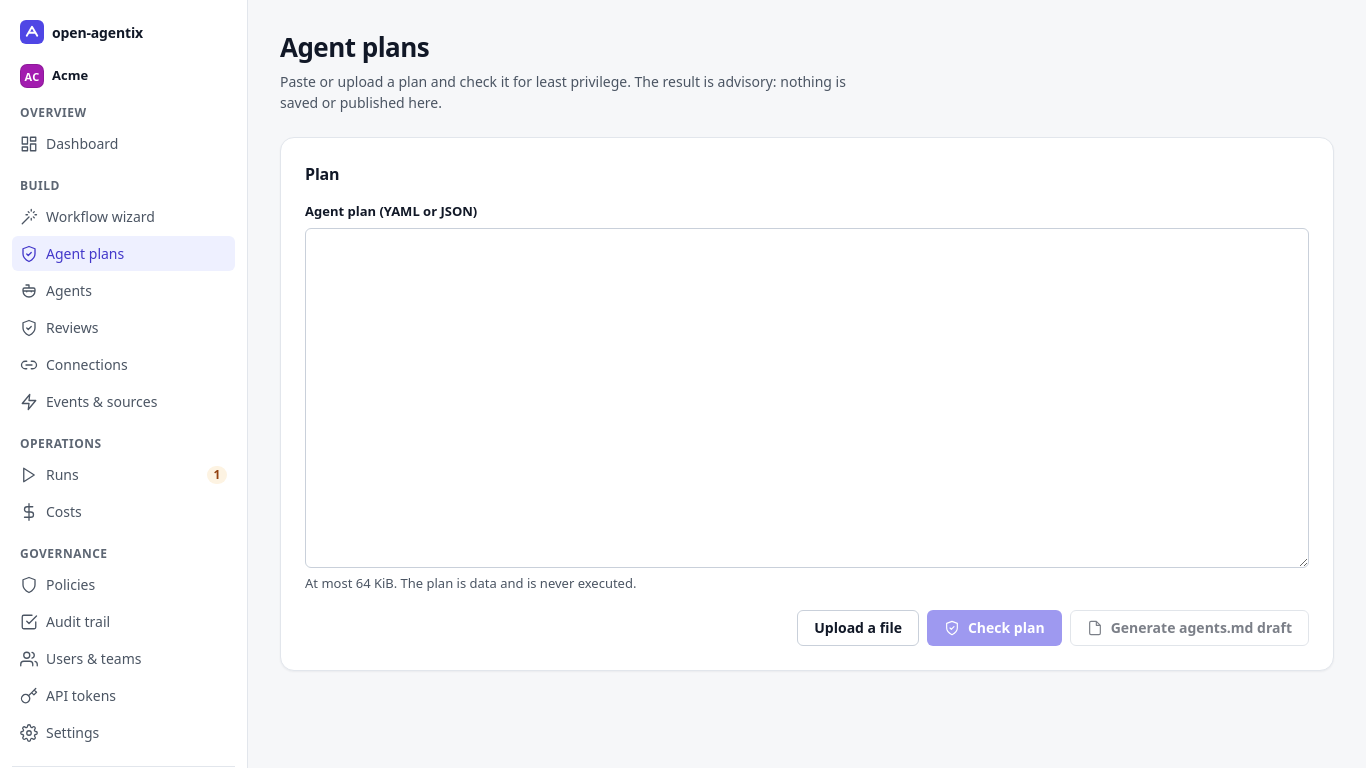
plans page › withholds the draft when the plan has errors
In the text box labelled "Agent plan (YAML or JSON)": (807, 398) x1=305 y1=228 x2=1309 y2=568, type "ERRORS"
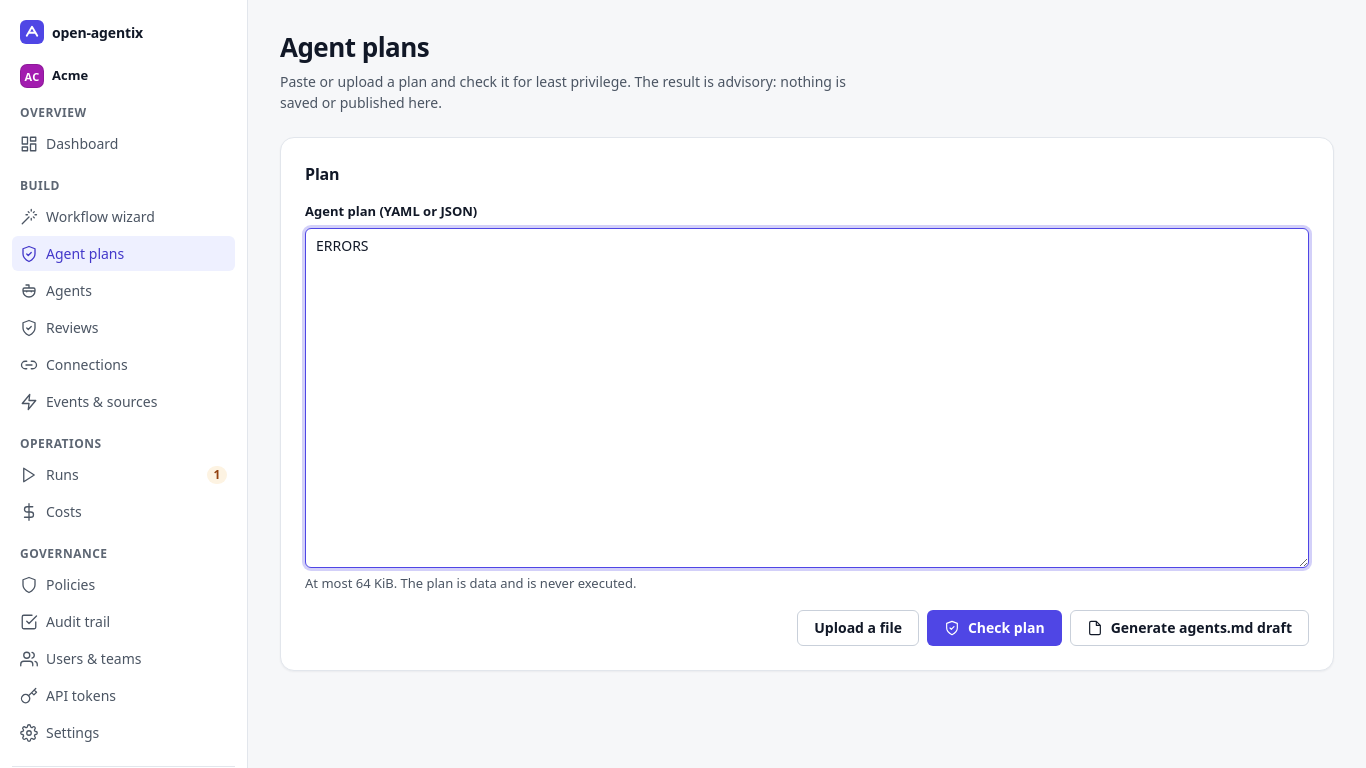
Click the button "Generate agents.md draft": (1189, 628) x1=1070 y1=610 x2=1309 y2=646
(page scrolled)
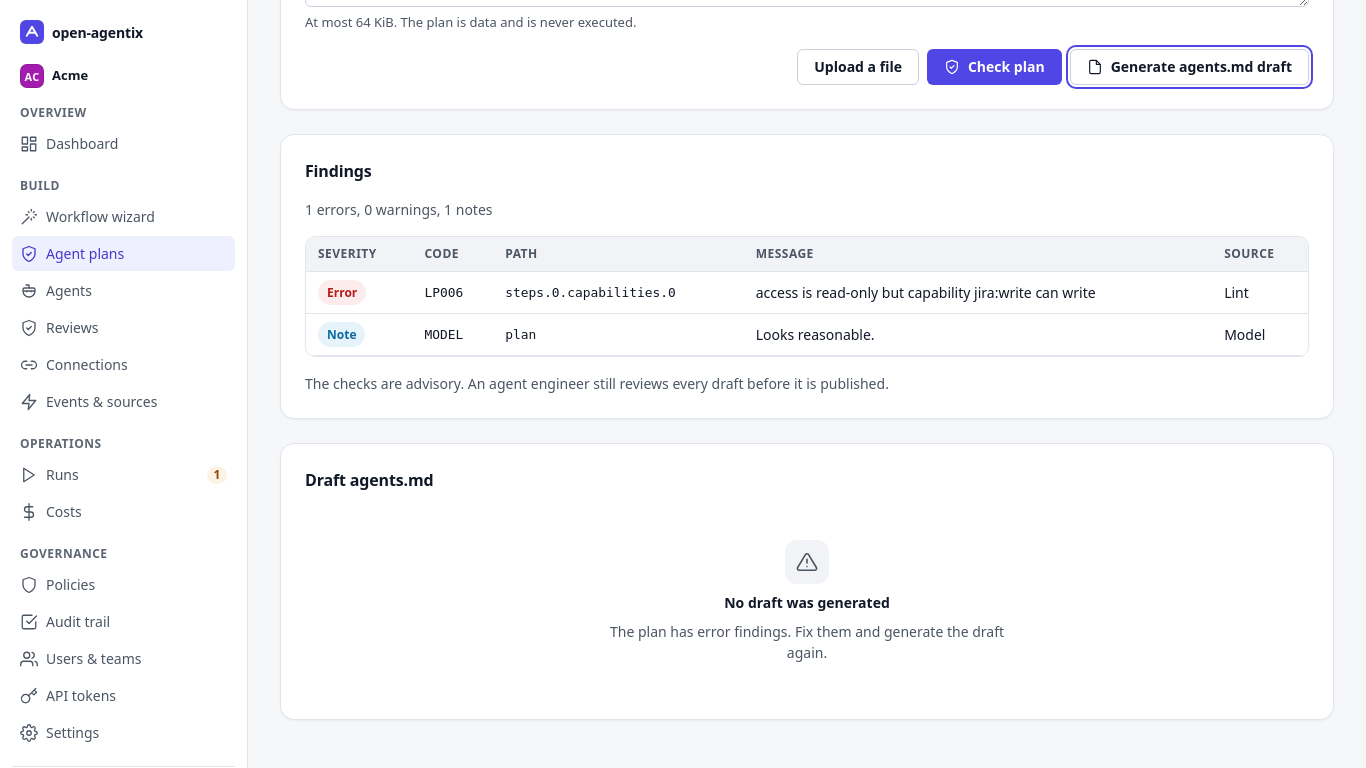
expect the text "No draft was generated" is shown: met, box x1=724 y1=592 x2=890 y2=613
